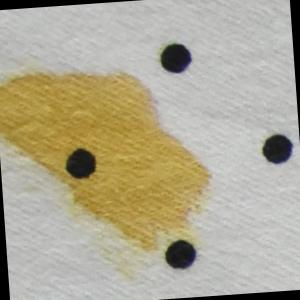Oil Stain: (1, 59, 214, 274)
